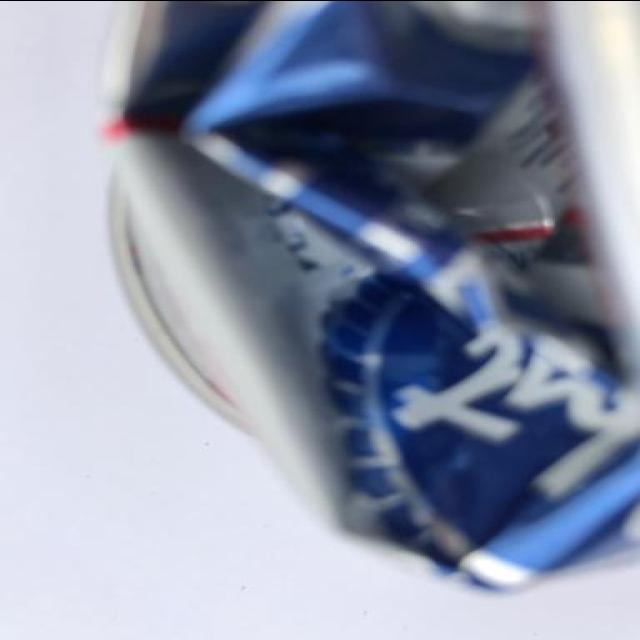Aluminum Can: (56, 6, 640, 620)
